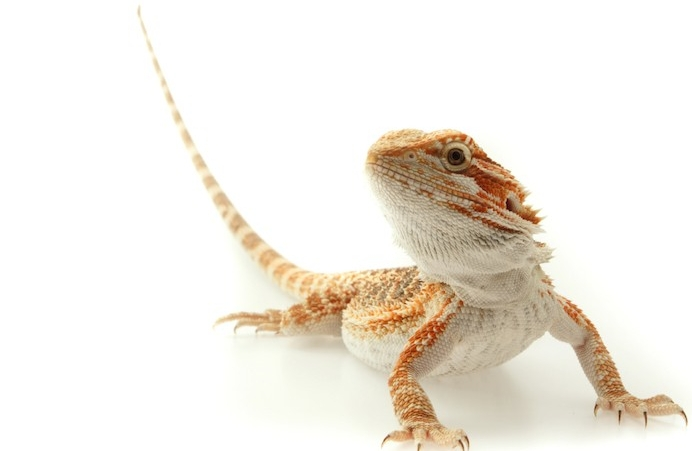bearded: (136, 4, 687, 449)
